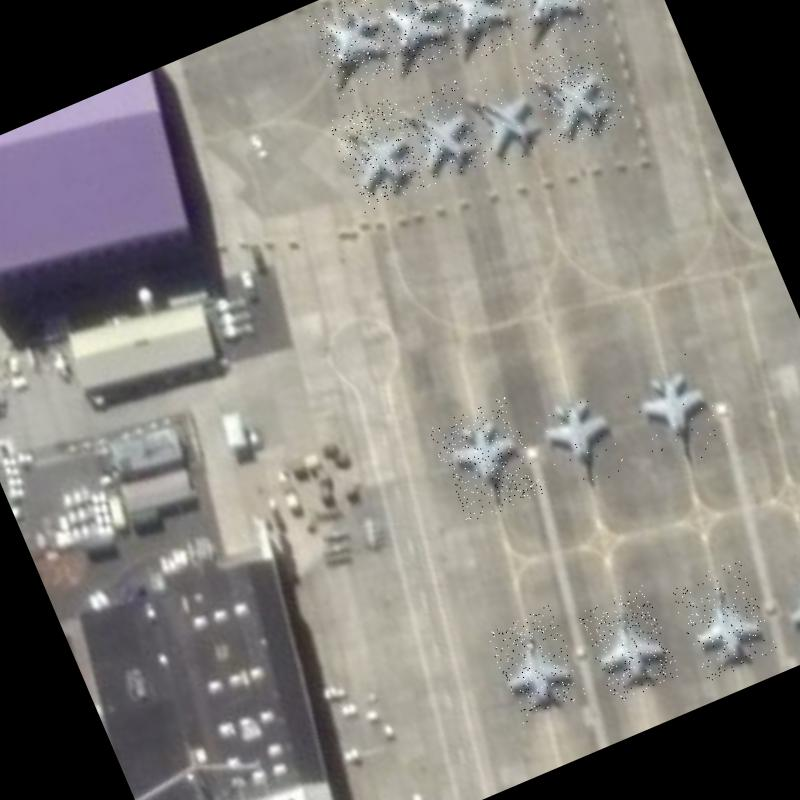A16: (617, 345, 733, 477), (428, 396, 546, 525), (668, 557, 780, 682), (326, 94, 434, 213), (530, 377, 636, 498), (576, 585, 682, 704), (520, 36, 628, 151), (485, 604, 588, 724), (453, 62, 556, 174), (394, 80, 490, 189), (304, 0, 405, 100), (366, 0, 467, 80), (433, 0, 527, 66), (499, 0, 599, 54), (760, 536, 800, 662)
